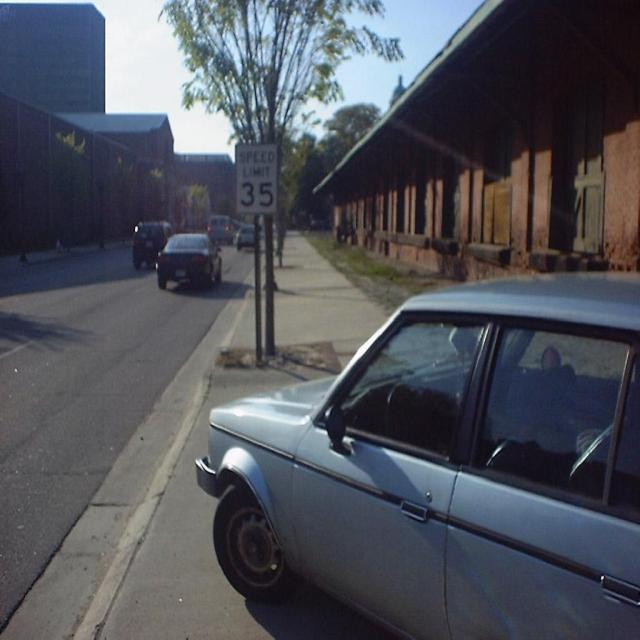car: (156, 230, 220, 288)
